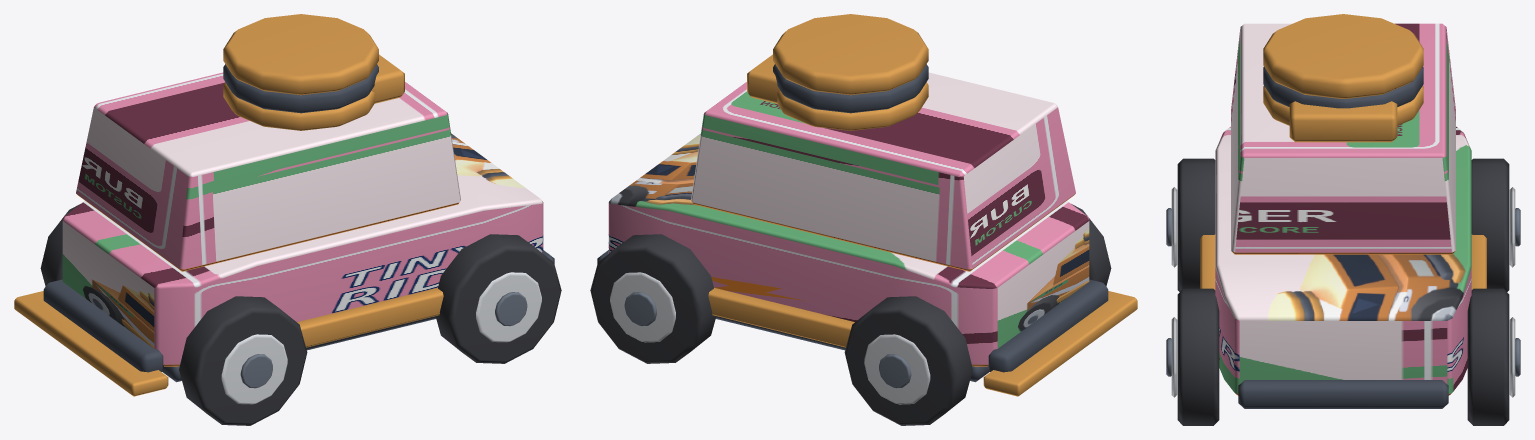
3 renders of one model, left to right at view 1: azimuth 30°, elevation 25°; view 2: azimuth 150°, elevation 25°; view 3: azimuth 270°, elevation 25°, orthographic. The views are drawn at different scales.
Visible parts, largest first — view 1: SS-03_cabin, SS-03_connected_shell, burger layer.002, Tire, Tire.002, custom chin, custom side guard, front bumper, burger layer.001, Rim, Rim.002, burger layer (+5 smaller); view 2: SS-03_cabin, SS-03_connected_shell, burger layer.002, Tire.001, Tire.003, custom chin, custom side guard.001, front bumper, burger layer.001, Rim.001, Rim.003, burger layer (+5 smaller); view 3: SS-03_connected_shell, SS-03_cabin, burger layer.002, rear bumper, Tire.002, Tire.003, Tire, Tire.001, custom equipment, burger layer.001, burger layer, custom side guard (+5 smaller).
Boxes of the visible parts, x1,y1,x2,y2 form: SS-03_cabin: (76,72,460,271); SS-03_connected_shell: (62,133,543,366); burger layer.002: (223,14,378,95); Tire: (179,296,307,425); Tire.002: (435,234,561,363); custom chin: (14,291,168,396); custom side guard: (297,288,443,347); front bumper: (43,279,163,372); burger layer.001: (223,64,378,113); Rim: (221,334,287,404); Rim.002: (476,272,541,342); burger layer: (223,82,374,130); SS-03_cabin: (691,72,1075,271); SS-03_connected_shell: (608,133,1089,366); burger layer.002: (773,14,928,95); Tire.001: (844,296,972,425); Tire.003: (590,234,716,363); custom chin: (983,291,1137,396); custom side guard.001: (708,288,854,347); front bumper: (988,279,1108,372); burger layer.001: (773,64,928,113); Rim.001: (864,334,930,404); Rim.003: (610,272,675,342); burger layer: (777,82,928,130); SS-03_connected_shell: (1215,126,1471,395); SS-03_cabin: (1231,23,1455,254); burger layer.002: (1263,14,1423,98); rear bumper: (1238,380,1448,408); Tire.002: (1177,288,1219,425); Tire.003: (1467,288,1509,425); Tire: (1177,158,1215,291); Tire.001: (1471,158,1509,291); custom equipment: (1289,101,1397,142); burger layer.001: (1263,67,1423,108); burger layer: (1263,85,1423,125); custom side guard: (1200,234,1215,289).
Bounding box in the file's own units: 328 × 213 × 221.
